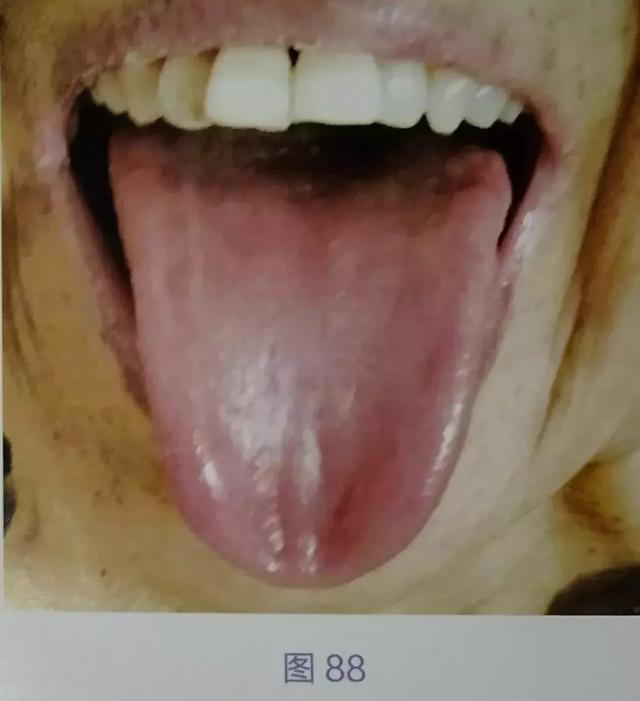hongshe: (106, 116, 512, 590)
liewenshe: (267, 410, 322, 577)
